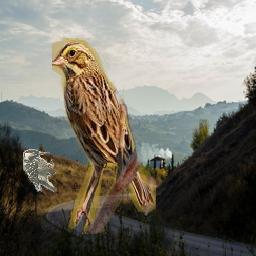Sparrow: (52, 38, 156, 234)
Woodpecker: (23, 150, 57, 193)
